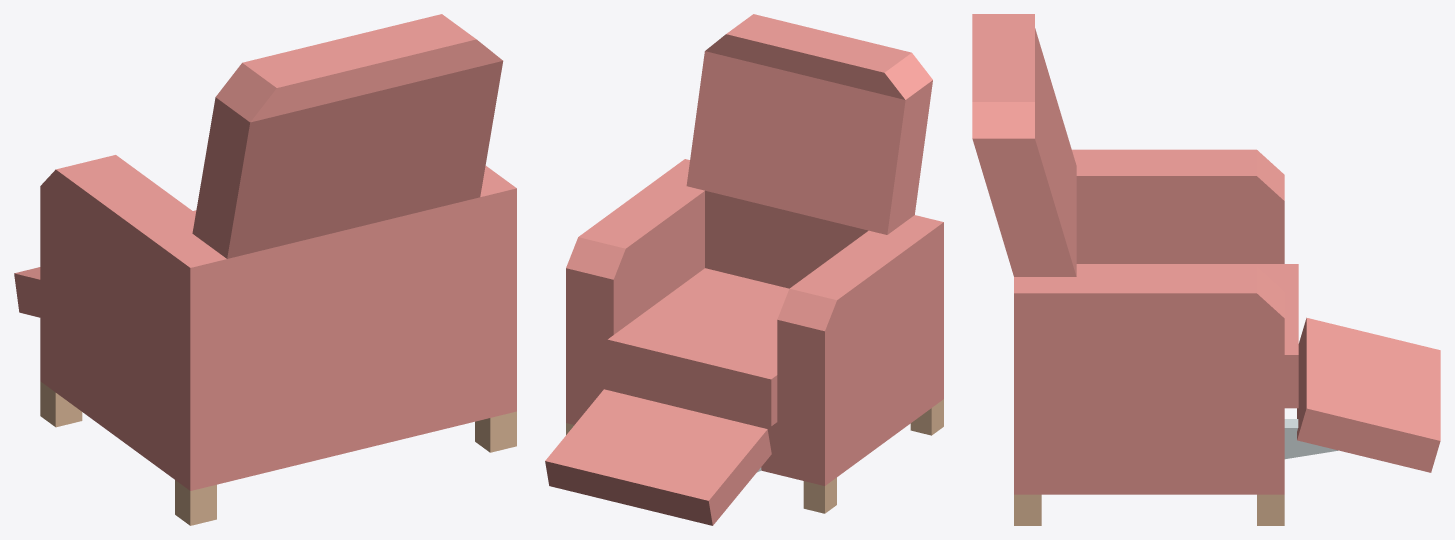
Rendered from lounge-chair-relax.glb.
3 views of the same model, side by side, from view 1: azimuth 30°, elevation 25°; view 2: azimuth 150°, elevation 25°; view 3: azimuth 270°, elevation 25° (orthographic). The views are drawn at different scales.
Visible parts, largest first — view 1: Mesh1, Mesh2; view 2: Mesh1, Mesh2; view 3: Mesh1, Mesh2, Mesh0.
Part boxes in pixels (box(x1,y1,x2,y2)): Mesh1: box(14, 14, 516, 490); Mesh2: box(40, 381, 516, 525); Mesh1: box(545, 14, 943, 525); Mesh2: box(566, 399, 943, 513); Mesh1: box(972, 14, 1440, 494); Mesh2: box(1014, 494, 1284, 525); Mesh0: box(1284, 419, 1338, 459).
Bounding box in the file's own units: 0.49 × 0.63 × 0.6747.
